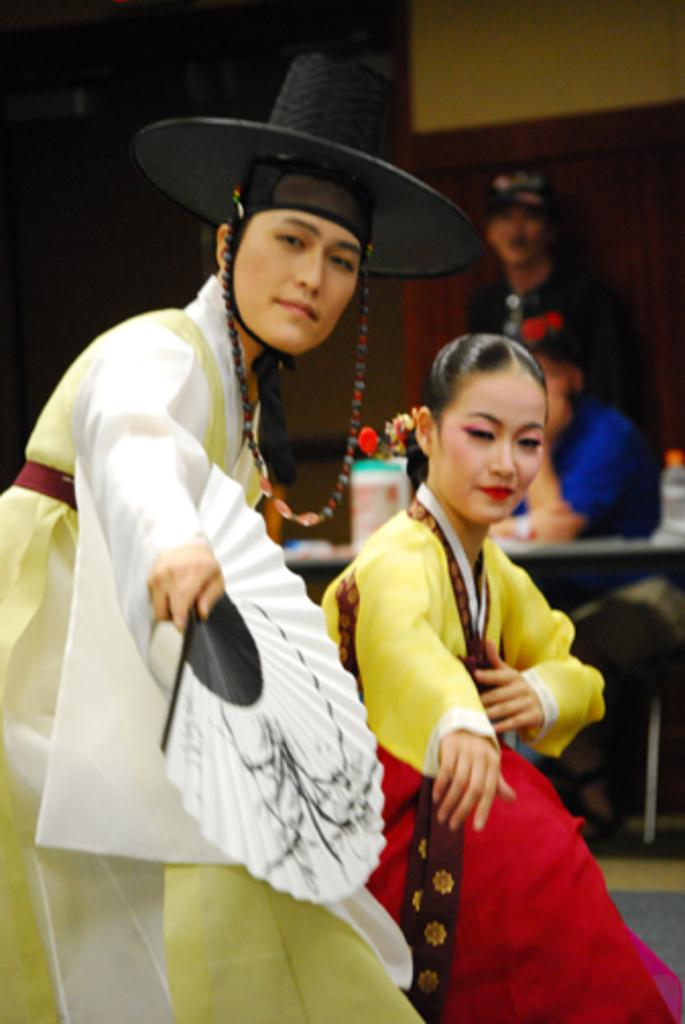Hat: (131, 50, 487, 368), (488, 150, 570, 215)
